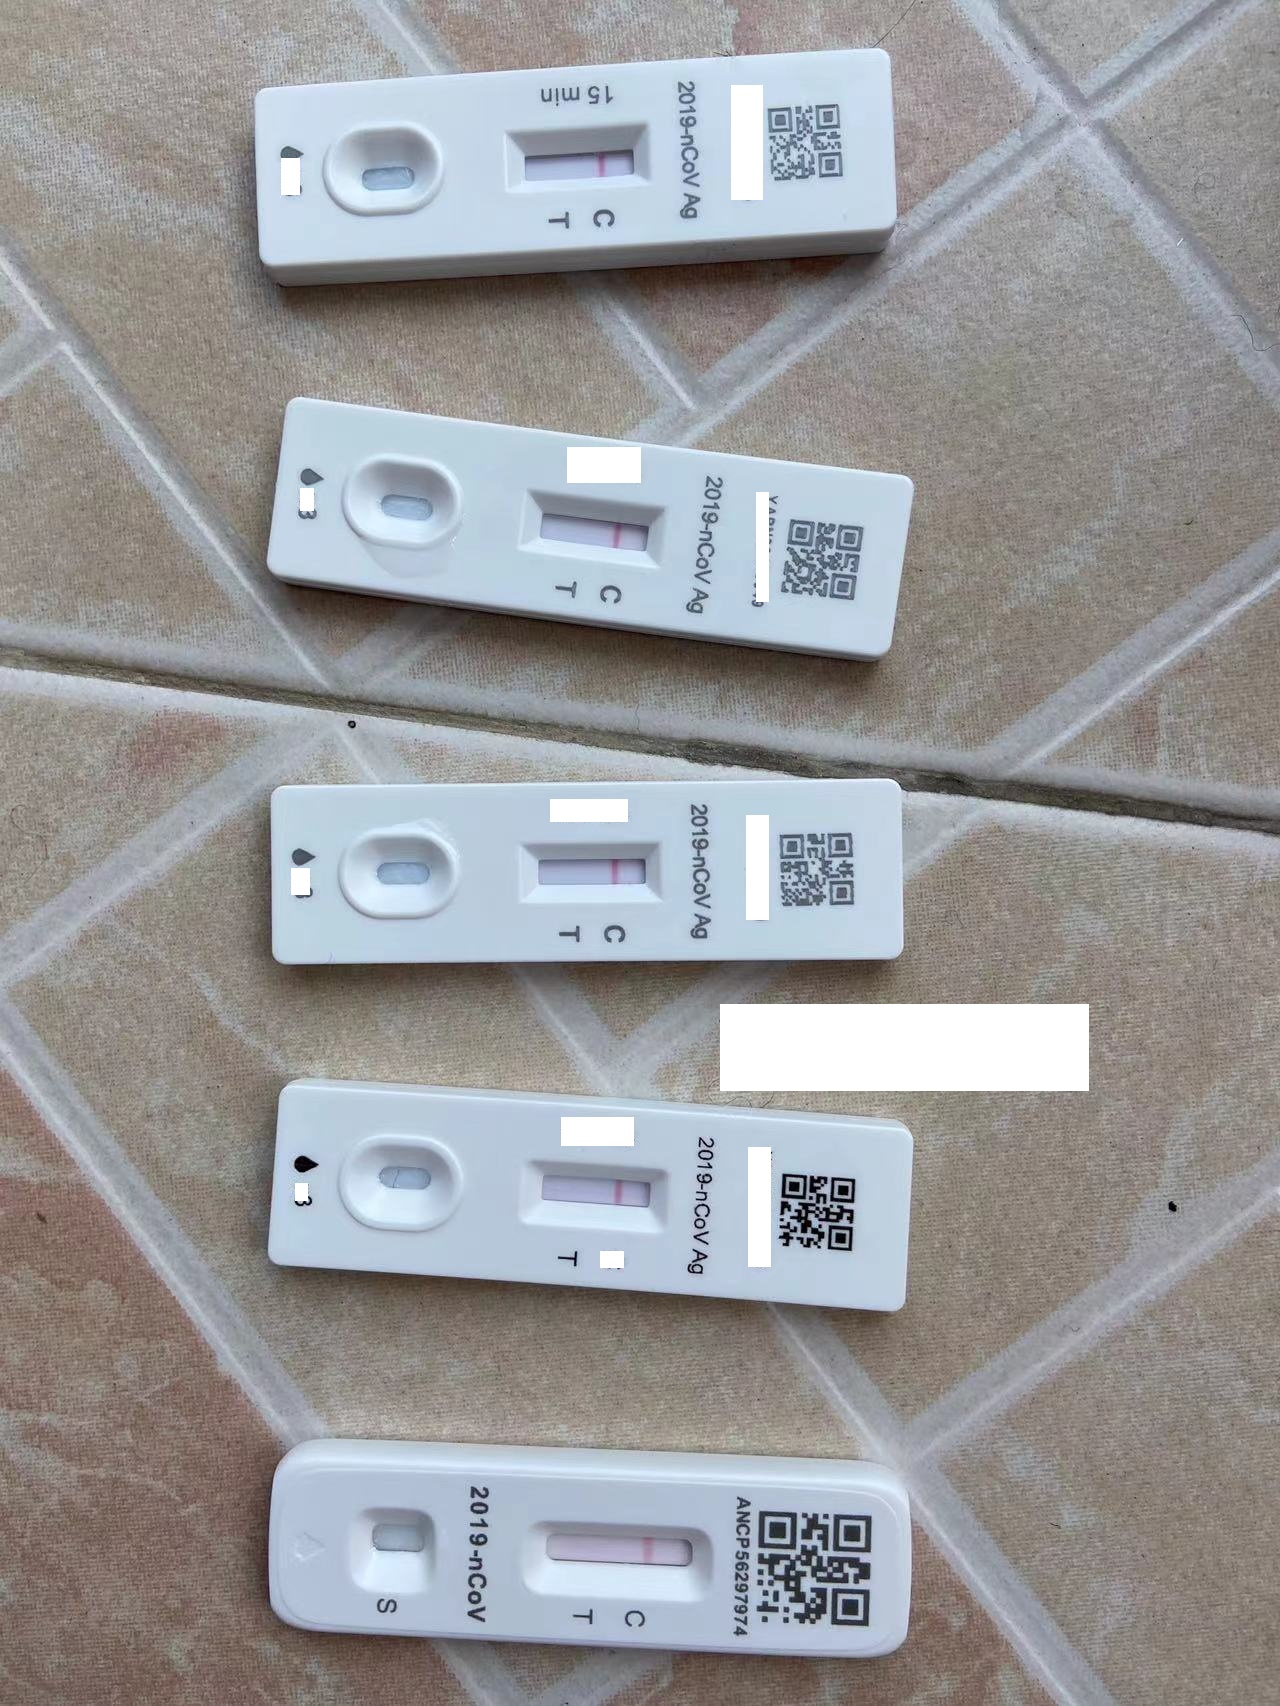negative: (527, 1514, 709, 1593), (507, 117, 653, 191), (527, 487, 663, 562), (518, 838, 666, 905), (523, 1157, 670, 1225)
